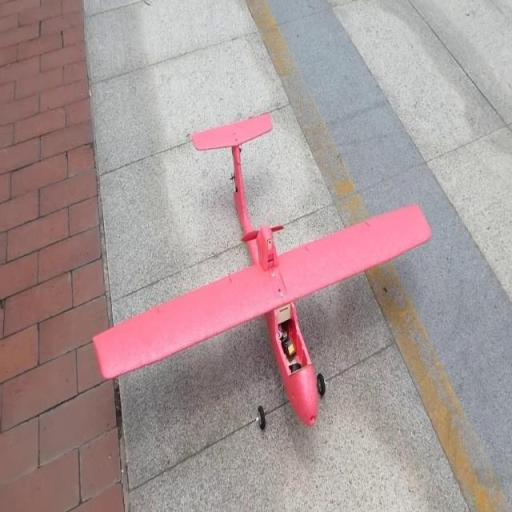uav: (92, 112, 434, 426)
